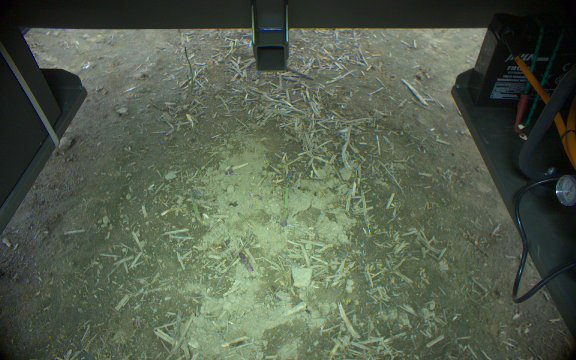aspa: (188, 187, 209, 228), (281, 168, 295, 228), (182, 45, 195, 95), (238, 252, 253, 274)
